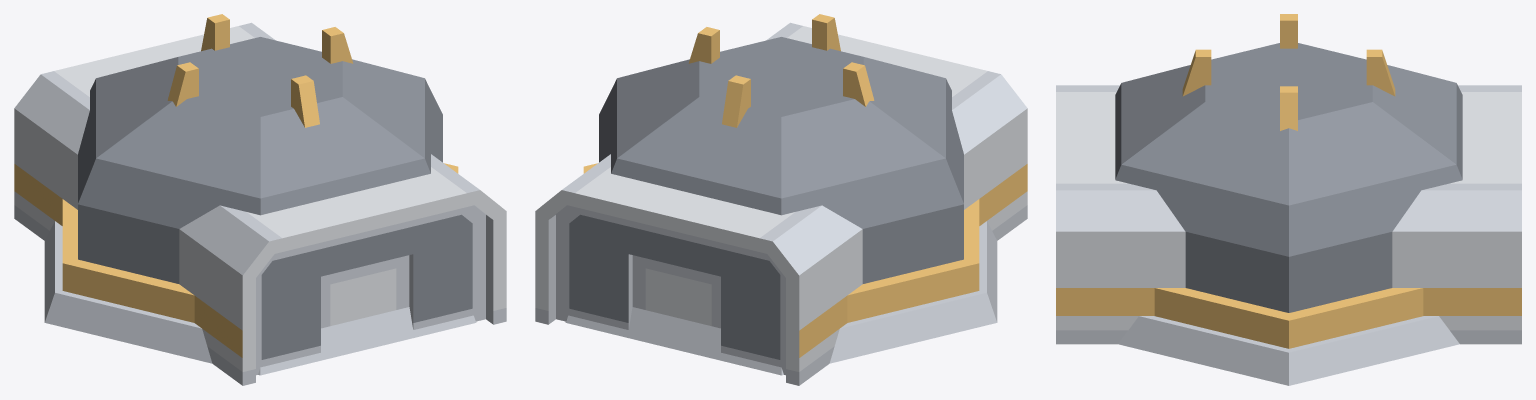
File: space.glb
3 renders of one model, left to right at view 1: azimuth 30°, elevation 25°; view 2: azimuth 150°, elevation 25°; view 3: azimuth 270°, elevation 25°, orthographic.
Parts seen in each view (by area): view 1: hangar_roundGlass~0, hangar_largeA~mesh, hangar_largeA~2, rocket_baseA~0; view 2: hangar_roundGlass~0, hangar_largeA~mesh, hangar_largeA~1, rocket_baseA~0; view 3: hangar_roundGlass~0, hangar_largeA~mesh, rocket_baseA~0.
Part boxes in pixels (left/top/right/bottom): hangar_roundGlass~0: left=44, top=37, right=476, bottom=375; hangar_largeA~mesh: left=14, top=22, right=506, bottom=385; hangar_largeA~2: left=256, top=205, right=485, bottom=375; rocket_baseA~0: left=167, top=14, right=353, bottom=127; hangar_roundGlass~0: left=565, top=37, right=997, bottom=375; hangar_largeA~mesh: left=535, top=22, right=1027, bottom=385; hangar_largeA~1: left=556, top=205, right=785, bottom=375; rocket_baseA~0: left=688, top=14, right=874, bottom=127; hangar_roundGlass~0: left=1115, top=43, right=1462, bottom=385; hangar_largeA~mesh: left=1056, top=85, right=1521, bottom=344; rocket_baseA~0: left=1182, top=14, right=1395, bottom=130.
Size of the model in its own units: 3.27 by 1.6 by 3.
